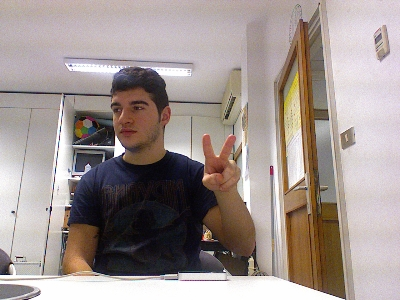剪刀: (200, 133, 241, 194)
